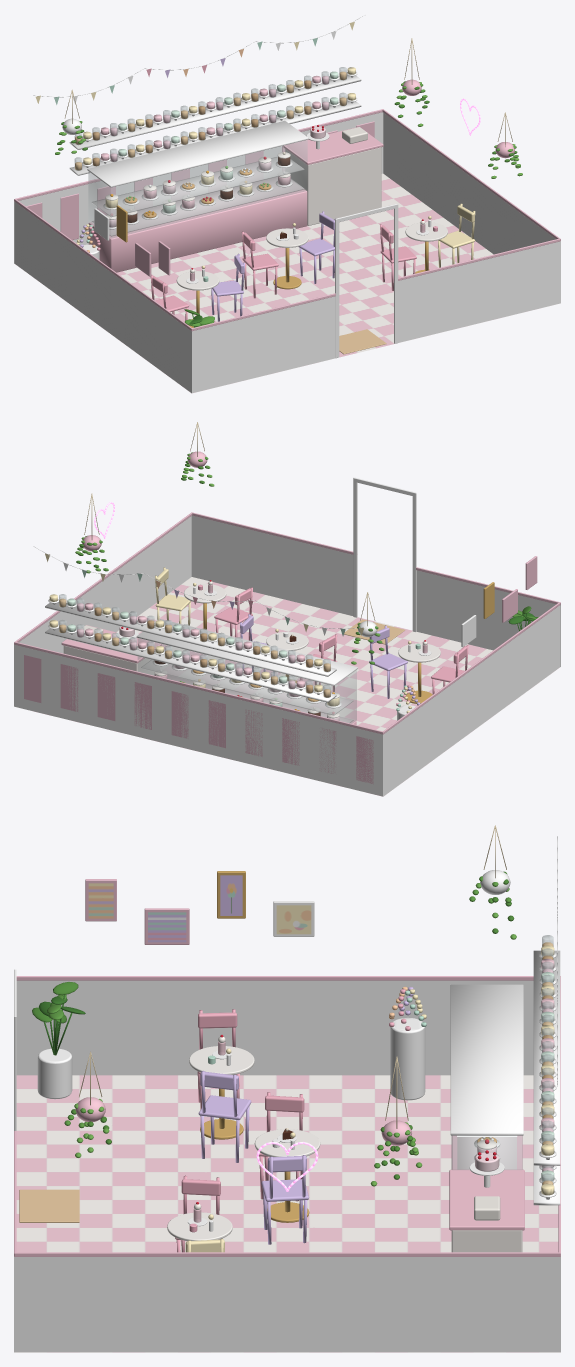
Rendered from place_dessert-D-RsD--B.glb.
3 views of the same model, one above another, from view 1: azimuth 30°, elevation 25°; view 2: azimuth 150°, elevation 25°; view 3: azimuth 270°, elevation 25° (orthographic). The views are drawn at different scales.
Parts seen in each view (by area): view 1: Case_display-case, Floor_place, Tile_wainscot_west, Tile_wainscot_south1, Tile_wainscot_south0, Wall_shelves_back-shelves, Tile_wainscot_east, Counter_register, Tile_wainscot_north, Tile_wainscot_panels, Casing_door, Wall_frames_frames-west (+19 smaller); view 2: Tile_wainscot_north, Floor_place, Tile_wainscot_west, Tile_wainscot_south1, Wall_shelves_back-shelves, Tile_wainscot_panels, Case_display-case, Tile_wainscot_east, Tile_wainscot_south0, Counter_register, Casing_door, Wall_frames_frames-west (+16 smaller); view 3: Floor_place, Tile_wainscot_east, Tile_wainscot_west, Case_display-case, Wall_shelves_back-shelves, Counter_register, Wall_frames_frames-west, Macarons_macaron-tower, Plant_plant-sw, Tile_rail_east, Tile_rail_west, Chair_table-1_1 (+11 smaller).
Part boxes in pixels (left/top/right/bottom): Case_display-case: left=87, top=120, right=308, bottom=272; Floor_place: left=15, top=173, right=557, bottom=393; Tile_wainscot_west: left=14, top=202, right=191, bottom=393; Tile_wainscot_south1: left=398, top=241, right=560, bottom=342; Tile_wainscot_south0: left=192, top=296, right=335, bottom=393; Wall_shelves_back-shelves: left=69, top=67, right=361, bottom=175; Tile_wainscot_east: left=383, top=113, right=555, bottom=254; Counter_register: left=283, top=125, right=383, bottom=225; Tile_wainscot_north: left=14, top=112, right=383, bottom=263; Tile_wainscot_panels: left=26, top=121, right=374, bottom=240; Casing_door: left=335, top=203, right=398, bottom=358; Wall_frames_frames-west: left=94, top=205, right=170, bottom=276; Tile_wainscot_north: left=14, top=644, right=382, bottom=796; Floor_place: left=14, top=577, right=559, bottom=796; Tile_wainscot_west: left=383, top=605, right=560, bottom=796; Tile_wainscot_south1: left=191, top=515, right=353, bottom=615; Wall_shelves_back-shelves: left=45, top=594, right=336, bottom=702; Tile_wainscot_panels: left=24, top=655, right=373, bottom=784; Case_display-case: left=136, top=619, right=357, bottom=724; Tile_wainscot_east: left=19, top=516, right=191, bottom=653; Tile_wainscot_south0: left=416, top=570, right=560, bottom=666; Counter_register: left=61, top=625, right=161, bottom=675; Casing_door: left=353, top=477, right=416, bottom=631; Wall_frames_frames-west: left=461, top=556, right=537, bottom=647; Floor_place: left=14, top=1075, right=560, bottom=1352; Tile_wainscot_east: left=14, top=1256, right=560, bottom=1352; Tile_wainscot_west: left=16, top=980, right=533, bottom=1075; Case_display-case: left=450, top=984, right=523, bottom=1169; Wall_shelves_back-shelves: left=533, top=935, right=560, bottom=1205; Counter_register: left=449, top=1150, right=524, bottom=1252; Wall_frames_frames-west: left=85, top=871, right=314, bottom=944; Macarons_macaron-tower: left=389, top=986, right=426, bottom=1100; Plant_plant-sw: left=32, top=982, right=85, bottom=1099; Tile_rail_east: left=14, top=1252, right=560, bottom=1256; Tile_rail_west: left=16, top=976, right=560, bottom=980; Chair_table-1_1: left=198, top=1071, right=251, bottom=1162.
Size of the model in its own units: 6 by 2.8 by 5.
63 materials, 5 textured.
